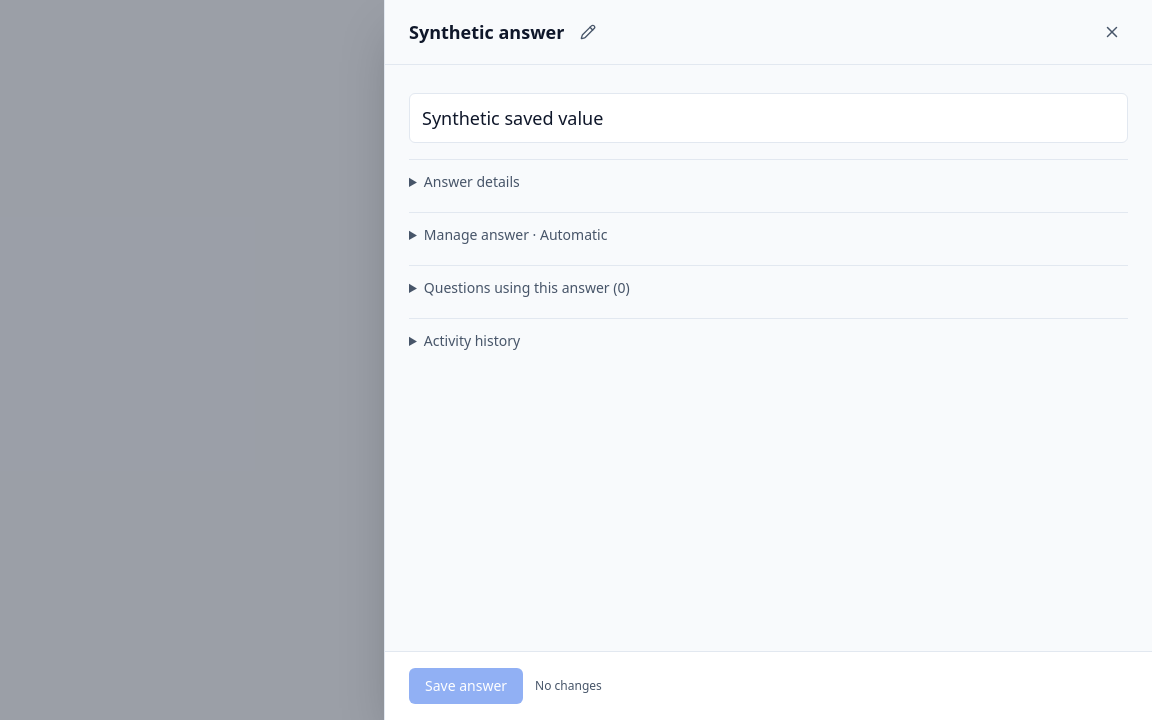
Test: AnswerDrawer Question creation › keeps the current fill policy visible while its control starts in answer management
Expected: the heading "Synthetic answer" is shown, [409,18,564,46]
Expected: the field named "Value" is shown, [409,93,1128,143]
Click the heading "Manage answer · Automatic" at (516, 234), box [424,225,607,244]
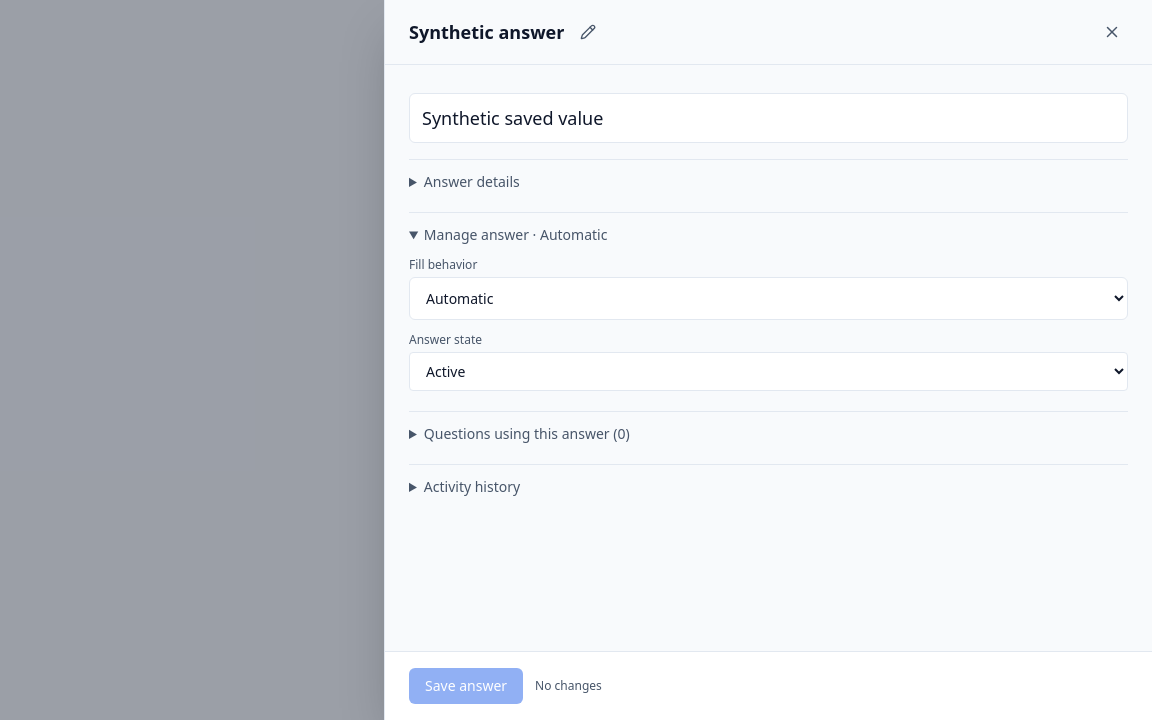
Select "Ask every time" in the dropdown labelled "Fill behavior" at (768, 298), box [409,277,1128,320]
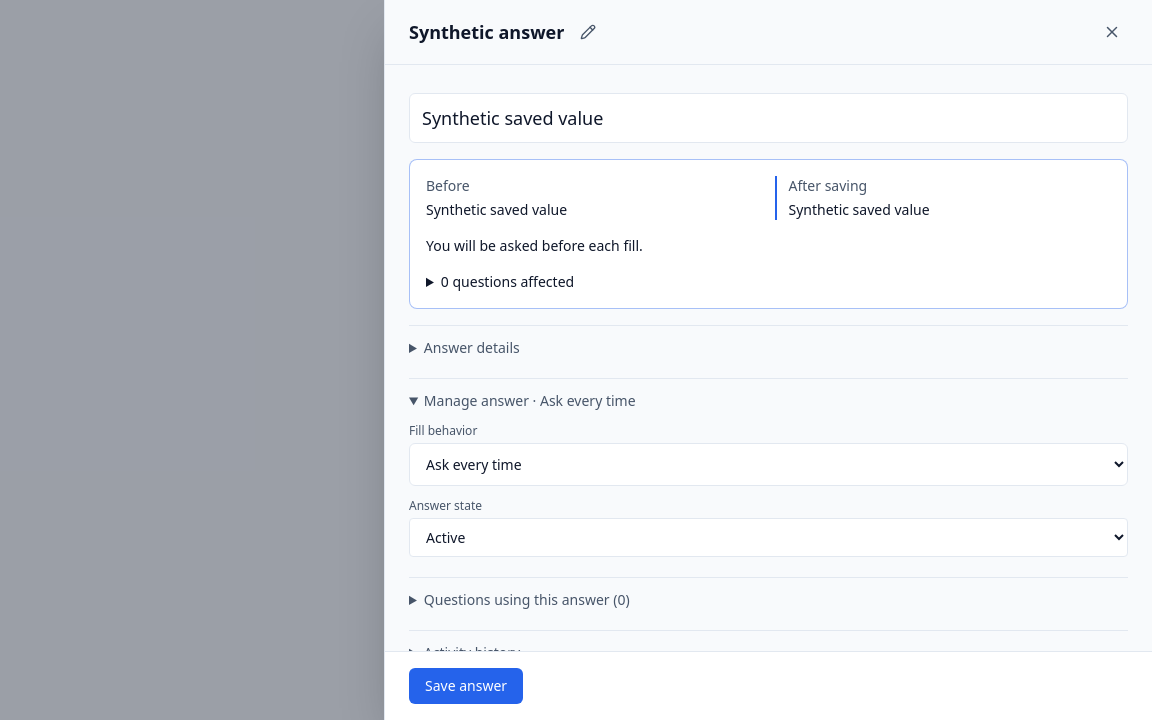
Expected: the heading "Manage answer · Ask every time" is shown, [424,391,636,410]
Expected: the element named "What will change" is shown, [409,159,1128,309]
